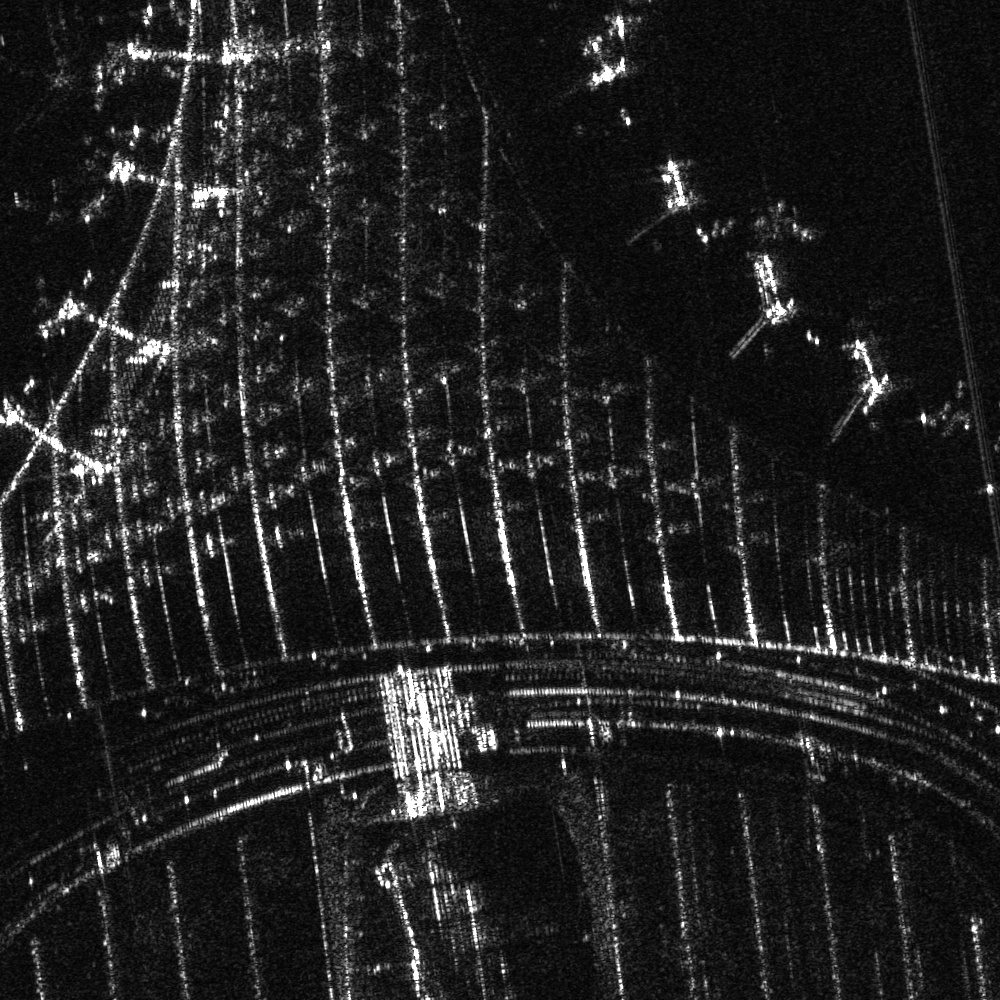A220: (13, 176, 77, 228)
other: (1, 6, 89, 135)
